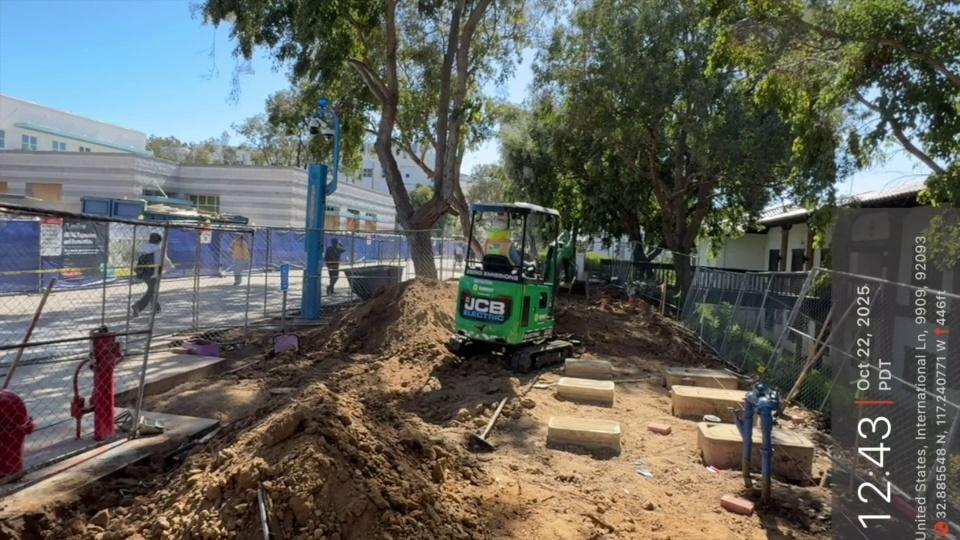Exacavator: (445, 199, 580, 373)
